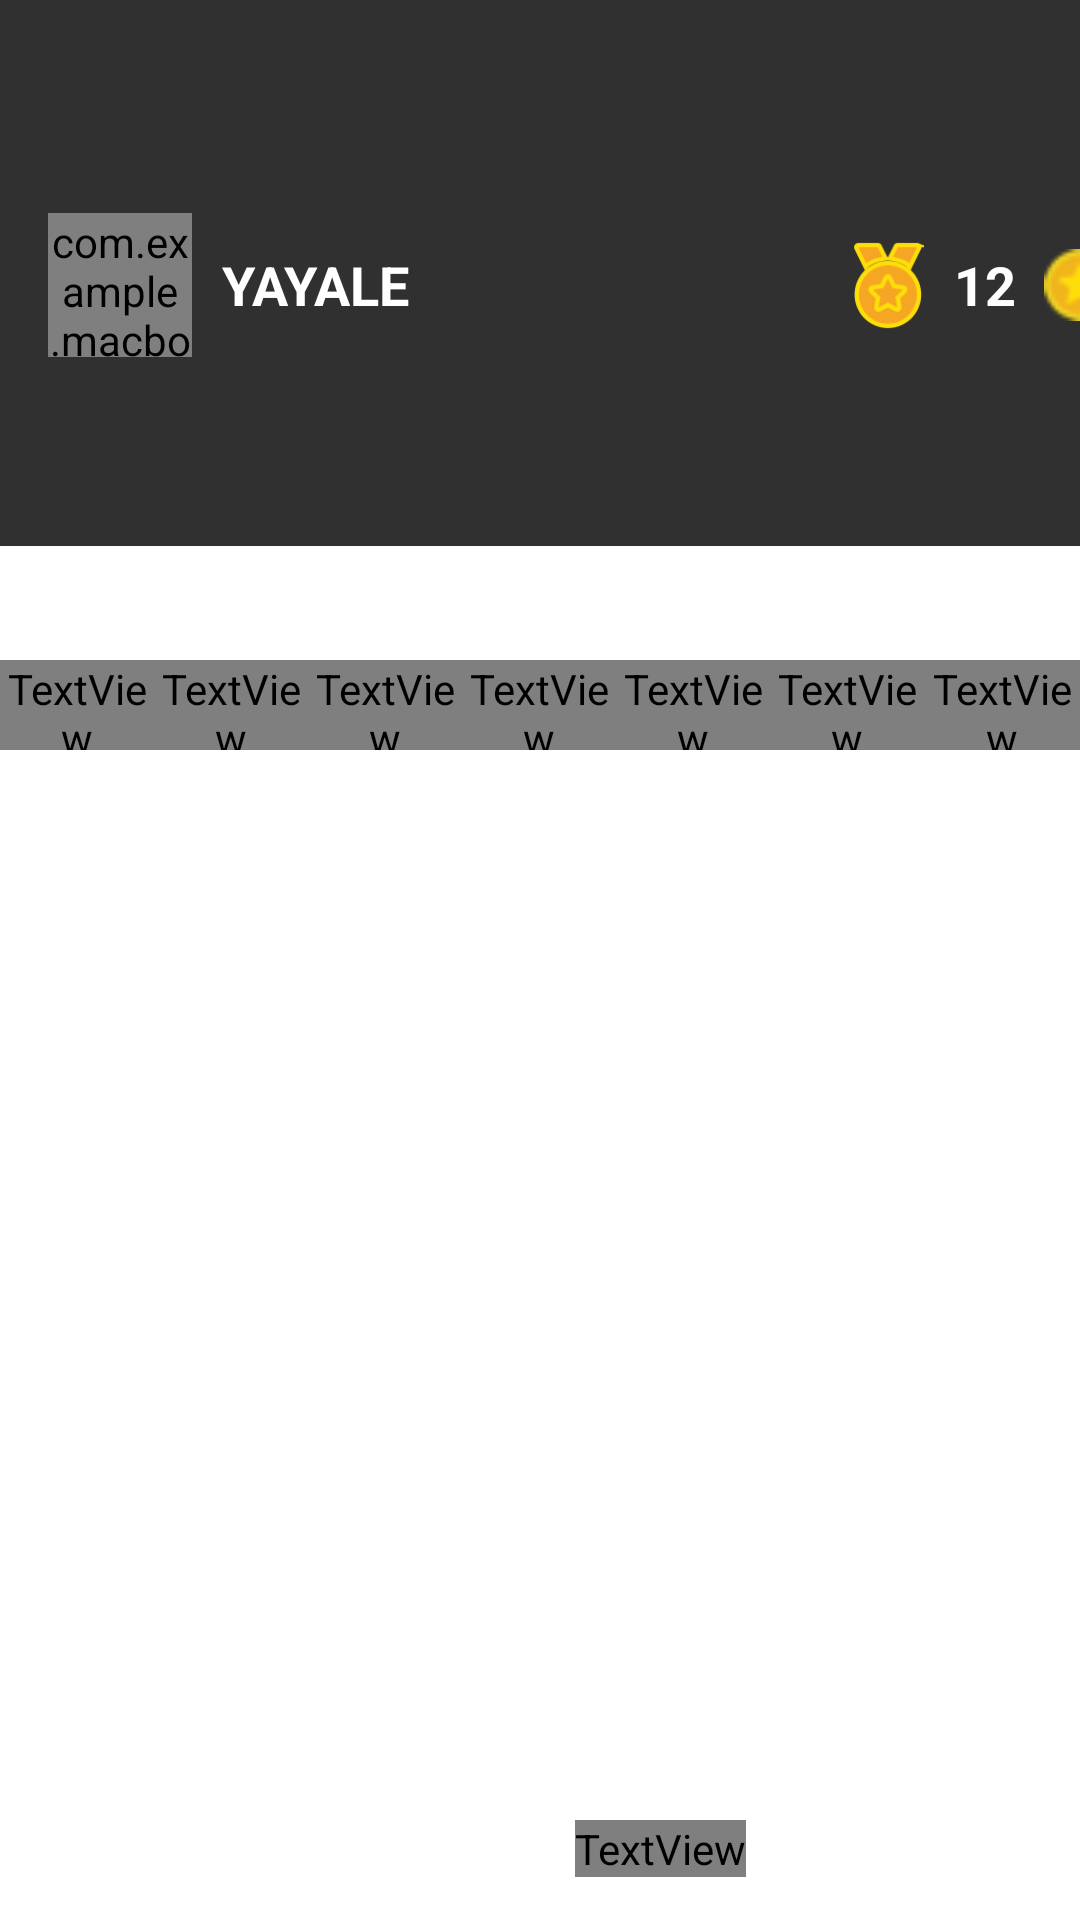

Named icons in this screenshot (1080 x 1920) and their centers, [x,y]:
user level: [889,285]
